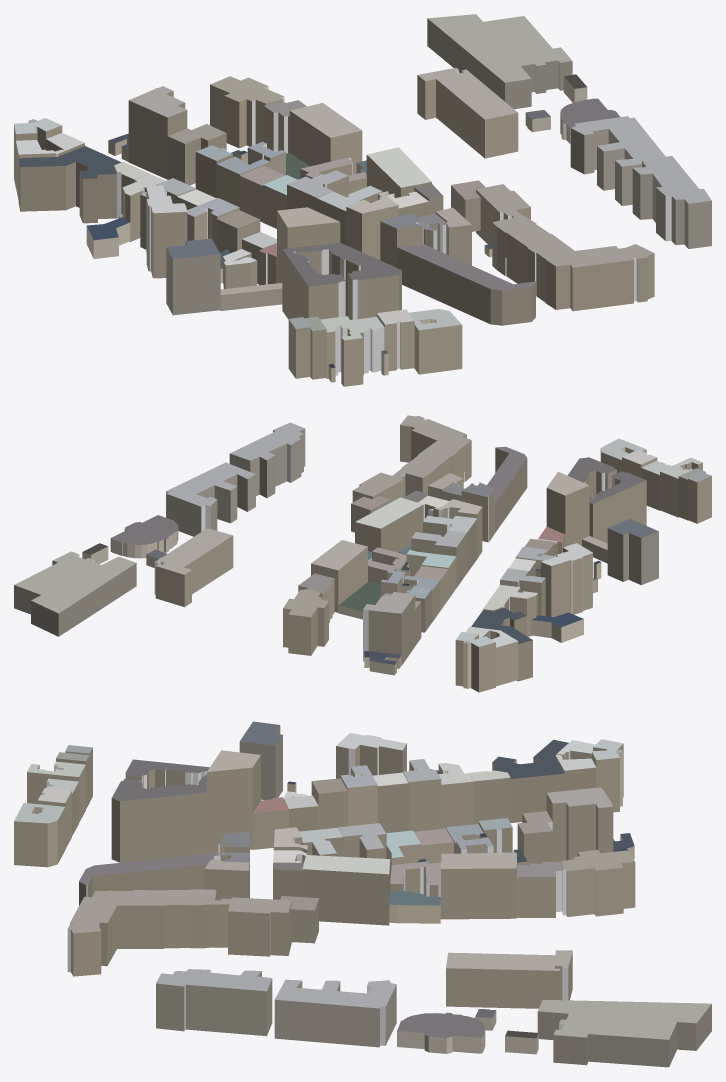
The picture shows the model from 3 angles, top to bottom: view 1: azimuth 30°, elevation 25°; view 2: azimuth 150°, elevation 25°; view 3: azimuth 270°, elevation 25°; orthographic projection. The views are drawn at different scales.
Parts seen in each view (by area): view 1: tuile; view 2: tuile; view 3: tuile.
Boxes of the visible parts, x1=… form: tuile: x1=14, y1=14, x2=711, y2=386; tuile: x1=14, y1=415, x2=711, y2=692; tuile: x1=14, y1=721, x2=711, y2=1067.
Size of the model in its own units: 270 by 43.32 by 293.
